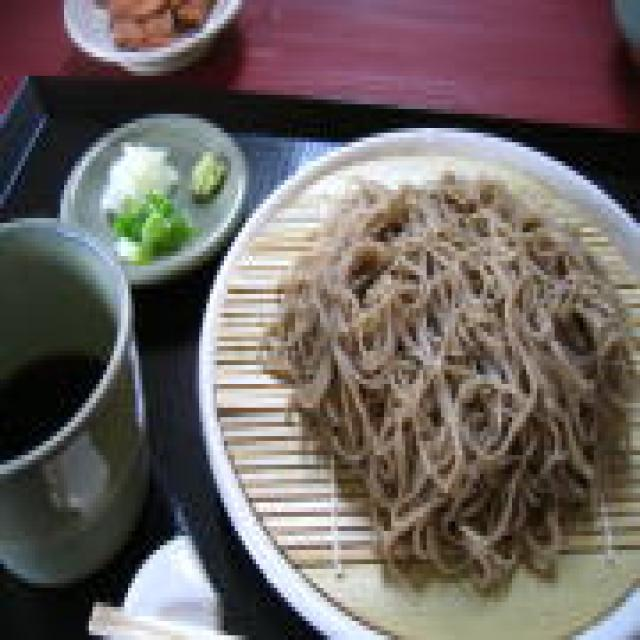面条主食: (192, 109, 640, 640)
